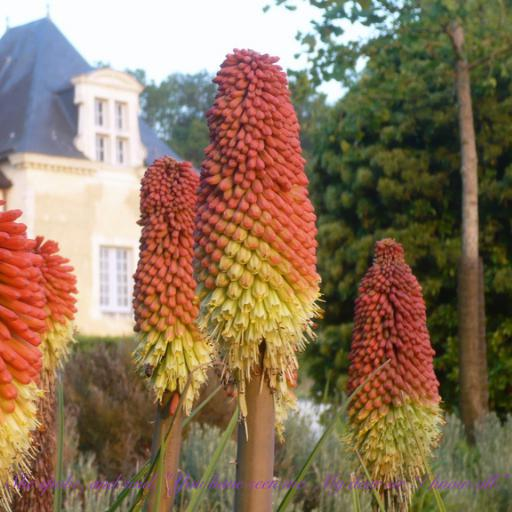Snell Roundhand: (5, 473, 507, 496)
